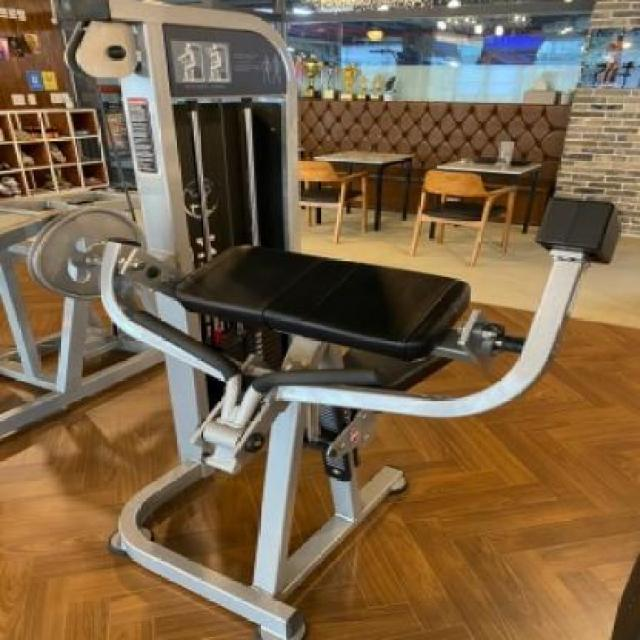arm curl machine: (26, 198, 626, 640)
